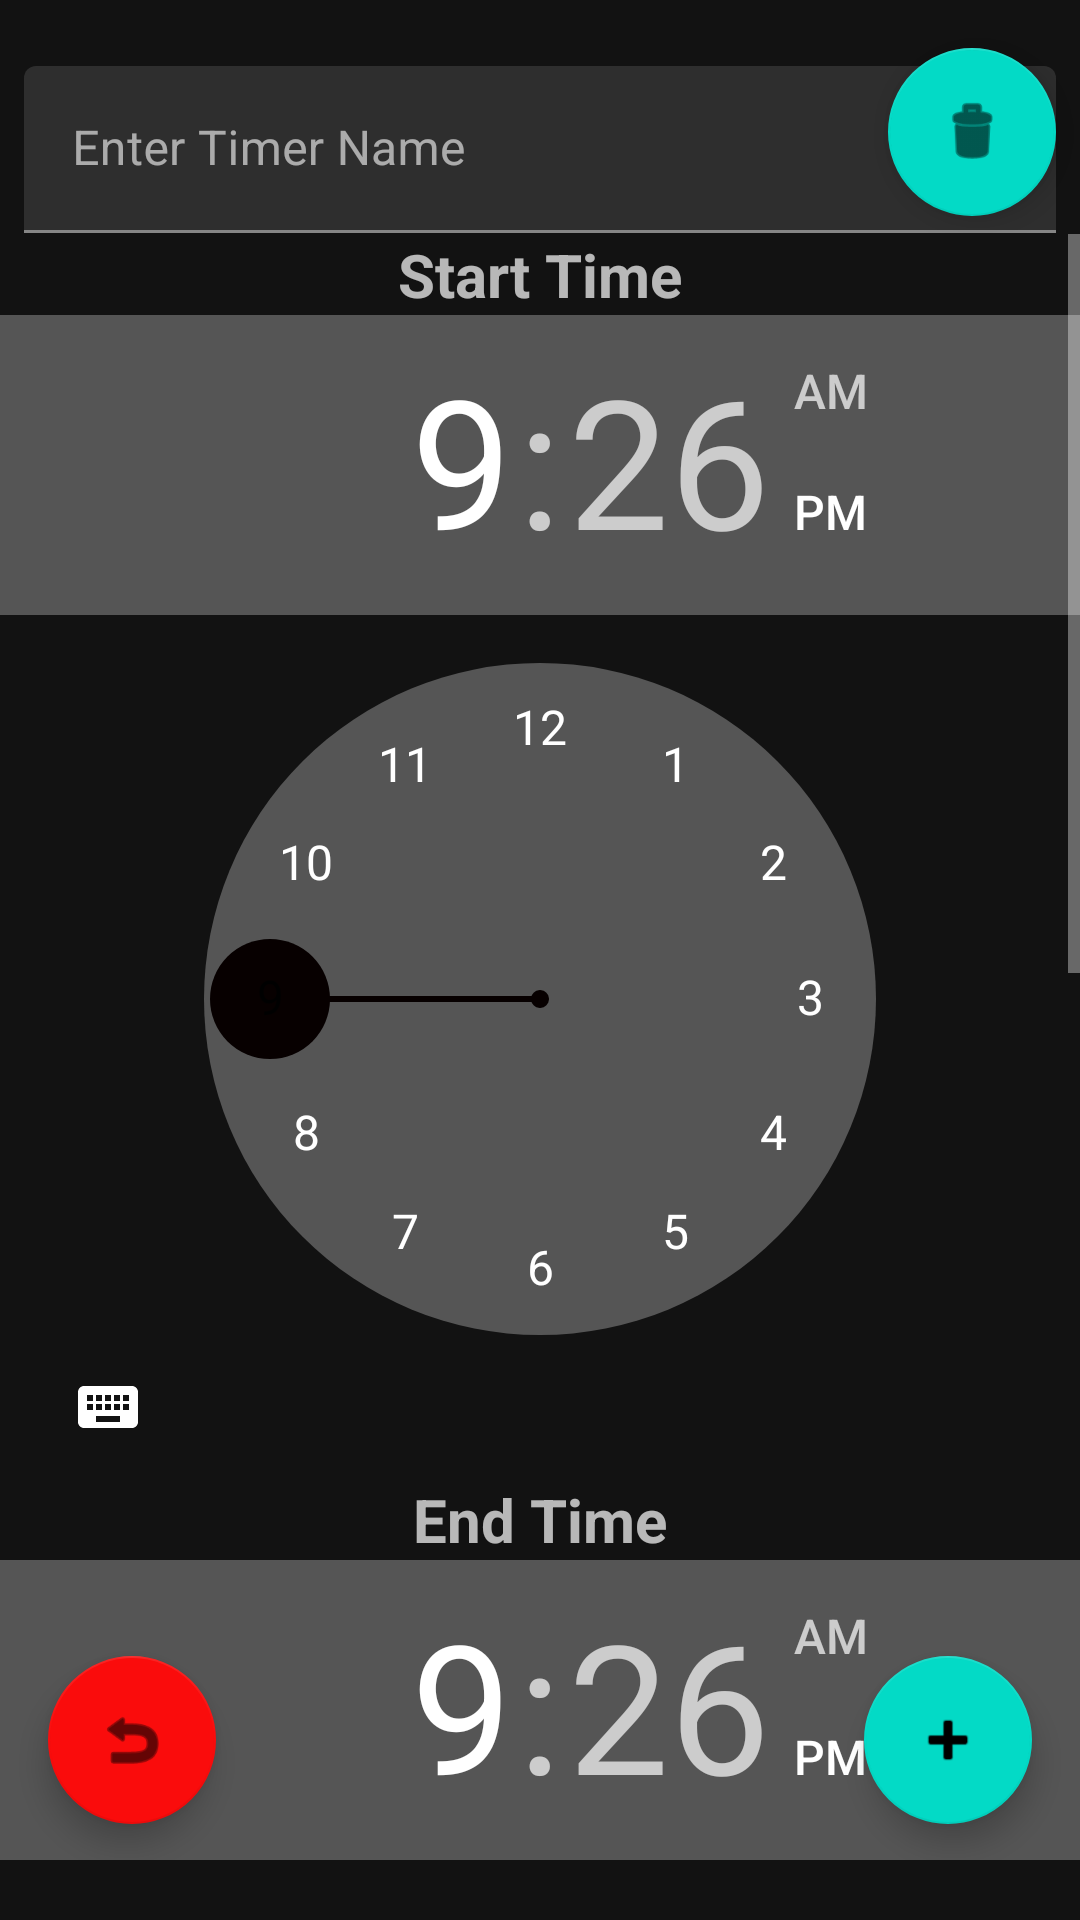

Screen size 1080px x 1920px. Icon name, then its center in pixels as point (x, y):
add: point (948, 1740)
delete: point (972, 132)
revert: point (132, 1740)
